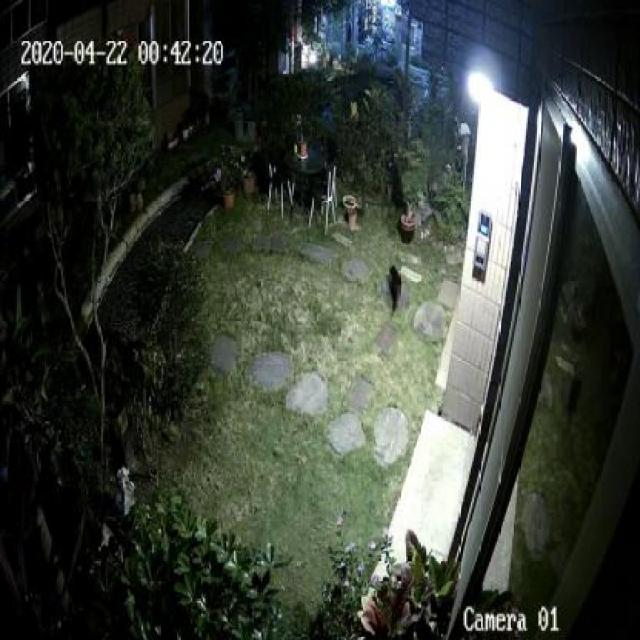animals: (385, 260, 403, 320)
